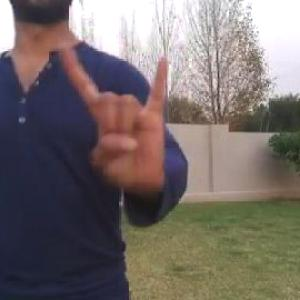takeoff-hand: (55, 39, 172, 192)
